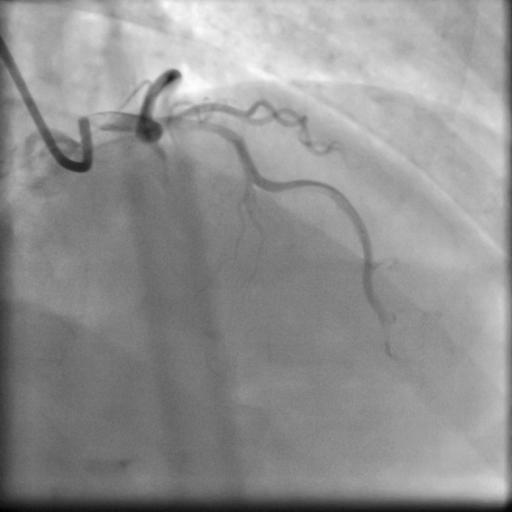Stenosis: (175, 115, 233, 139)
